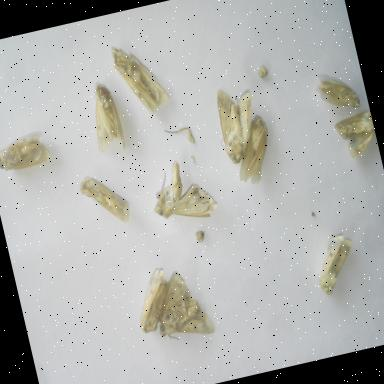abw: (142, 262, 224, 356), (140, 144, 224, 234), (104, 31, 176, 127), (208, 75, 270, 170), (222, 109, 286, 195), (122, 260, 186, 342), (306, 228, 366, 302), (74, 164, 136, 235), (82, 78, 130, 161), (308, 63, 366, 122), (325, 108, 381, 168), (0, 123, 57, 180)
